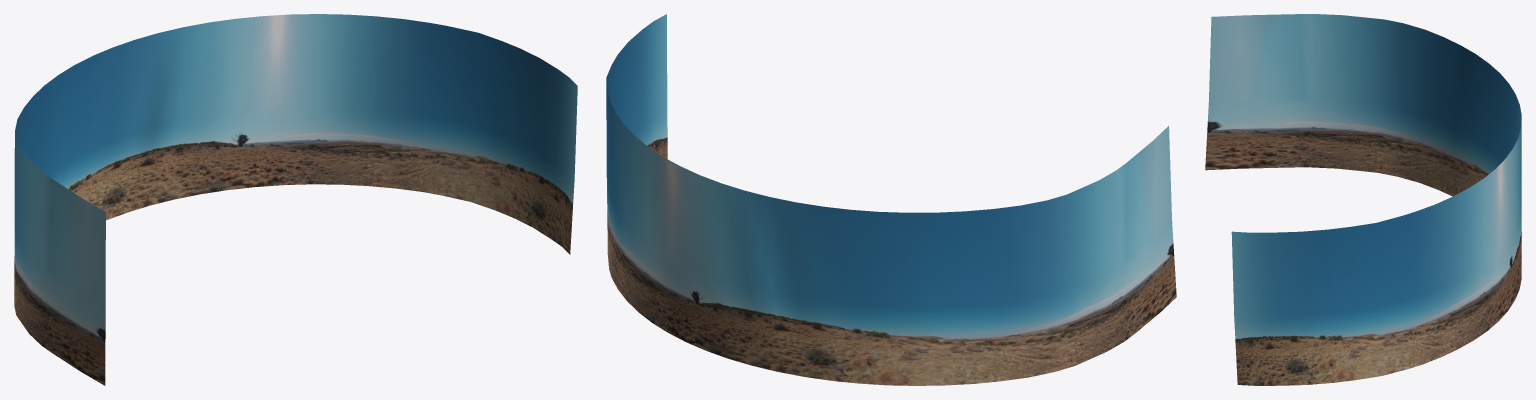
File: Background.glb
3 renders of one model, left to right at view 1: azimuth 30°, elevation 25°; view 2: azimuth 150°, elevation 25°; view 3: azimuth 270°, elevation 25°, orthographic. The views are drawn at different scales.
Parts seen in each view (by area): view 1: Plane.002; view 2: Plane.002; view 3: Plane.002.
Boxes of the visible parts, <box> form: Plane.002: <box>14,14,577,385</box>; Plane.002: <box>606,14,1176,385</box>; Plane.002: <box>1205,14,1521,385</box>.
Size of the model in its own units: 64.42 by 21.14 by 39.08.
1 material, 1 textured.
